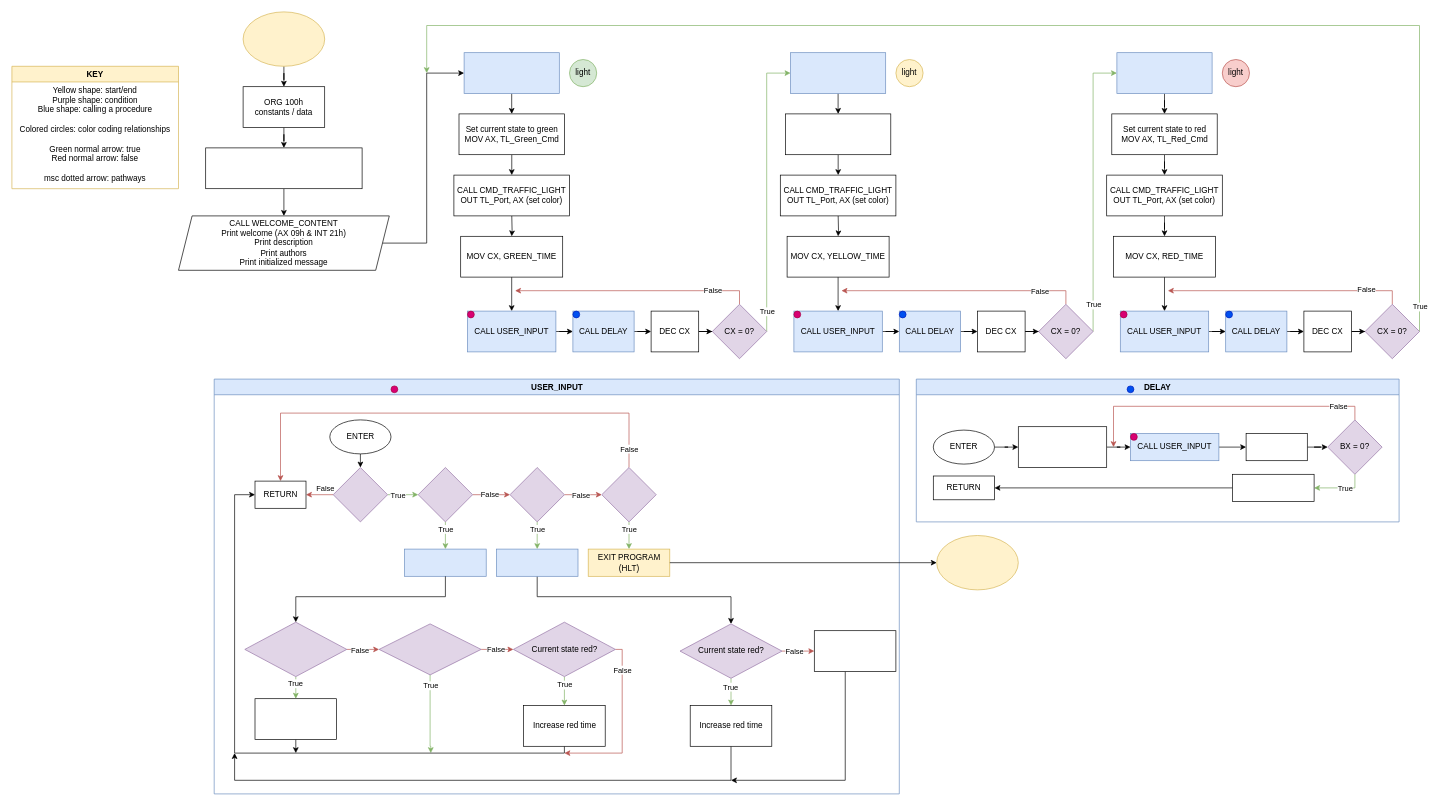
This 1439x806 diagram has some shape labels left out. Each missing label, with the centre of its shape:
CALL EMERGENCY: (x=537, y=562)
CALL GREEN_PROC: (x=511, y=73)
CALL INITIALIZE MOX AX, @DATA (Load data into AX) MOV DS, AX (Load data into DS): (x=283, y=168)
CALL PEDESTRIAN: (x=445, y=562)
CALL RED_PROC: (x=1164, y=73)
CALL YELLOW_PROC: (x=838, y=73)
Current state green?: (x=295, y=649)
Current state yellow?: (x=429, y=649)
DEC BX: (x=1276, y=447)
e or E?: (x=536, y=494)
END: (x=977, y=562)
Input?: (x=360, y=494)
p or P?: (x=445, y=494)
POP BX (restore): (x=1273, y=488)
Push BX (store) MOV BX, Delay_Time: (x=1062, y=447)
q or Q?: (x=628, y=494)
Set current state to yellow MOV AX, TL_Yellow_Cmd: (x=838, y=134)
Shorten green time Increase time for red: (x=295, y=719)
Speed transition to red, and increase time: (x=855, y=651)
START: (x=283, y=38)
